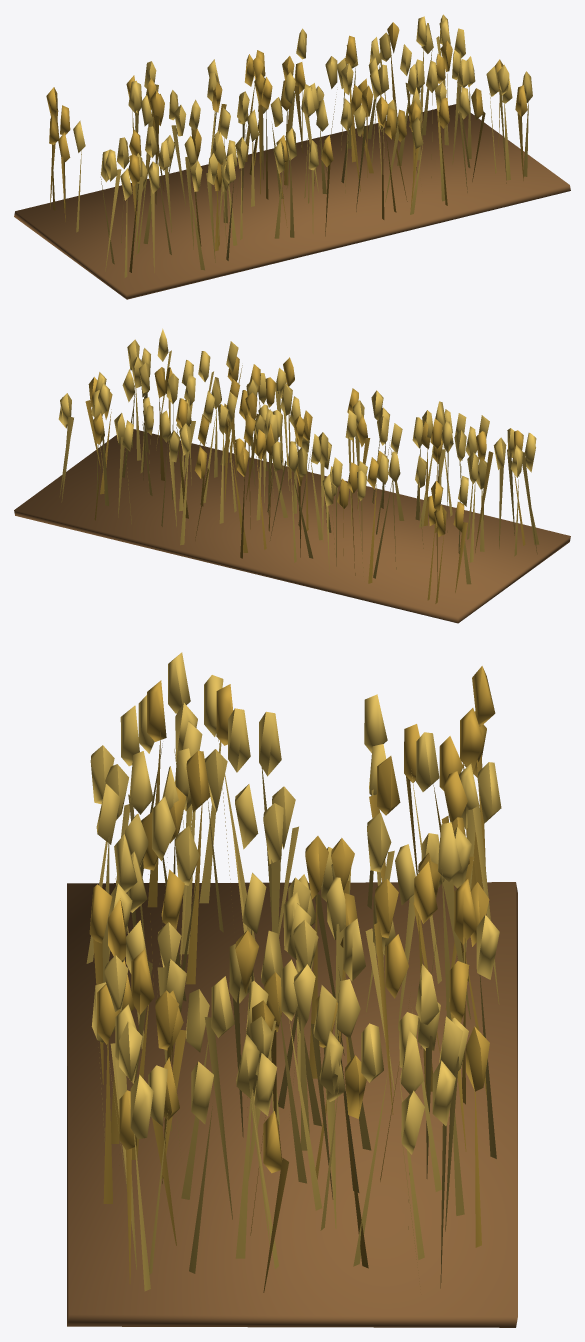
File: wheat_lod.glb
3 renders of one model, top to bottom at view 1: azimuth 30°, elevation 25°; view 2: azimuth 150°, elevation 25°; view 3: azimuth 270°, elevation 25°, orthographic. The views are drawn at different scales.
Visible parts, largest first — view 1: wheat_lod; view 2: wheat_lod; view 3: wheat_lod.
Part boxes in pixels (x1,y1,x2,y2): wheat_lod: (14,14,570,299); wheat_lod: (14,328,570,623); wheat_lod: (67,652,517,1327).
Bounding box in the file's own units: 6.78 × 1.91 × 2.98.
